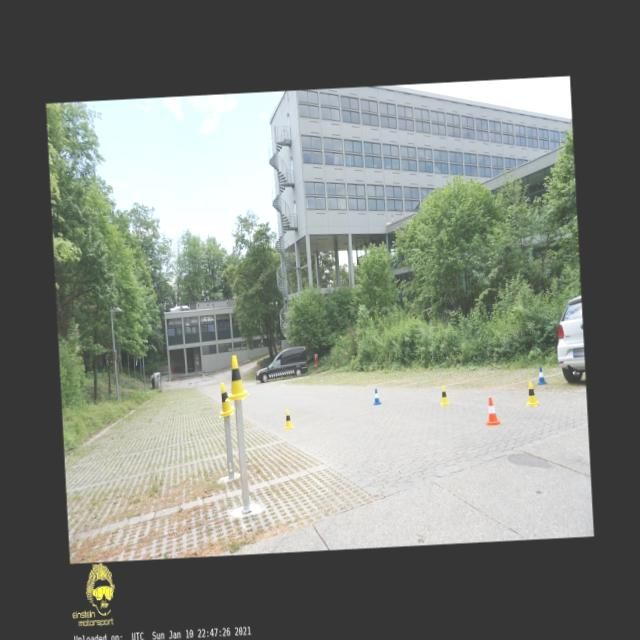blue_cone: (536, 366, 547, 385), (372, 388, 382, 406)
orange_cone: (484, 396, 500, 426)
yellow_cone: (222, 355, 250, 400), (218, 382, 235, 418), (524, 381, 540, 407), (283, 409, 294, 430), (439, 385, 450, 406)
